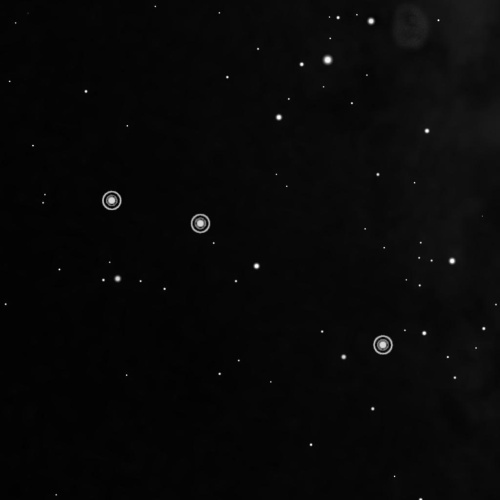vulpecula: (96, 187, 404, 364)
